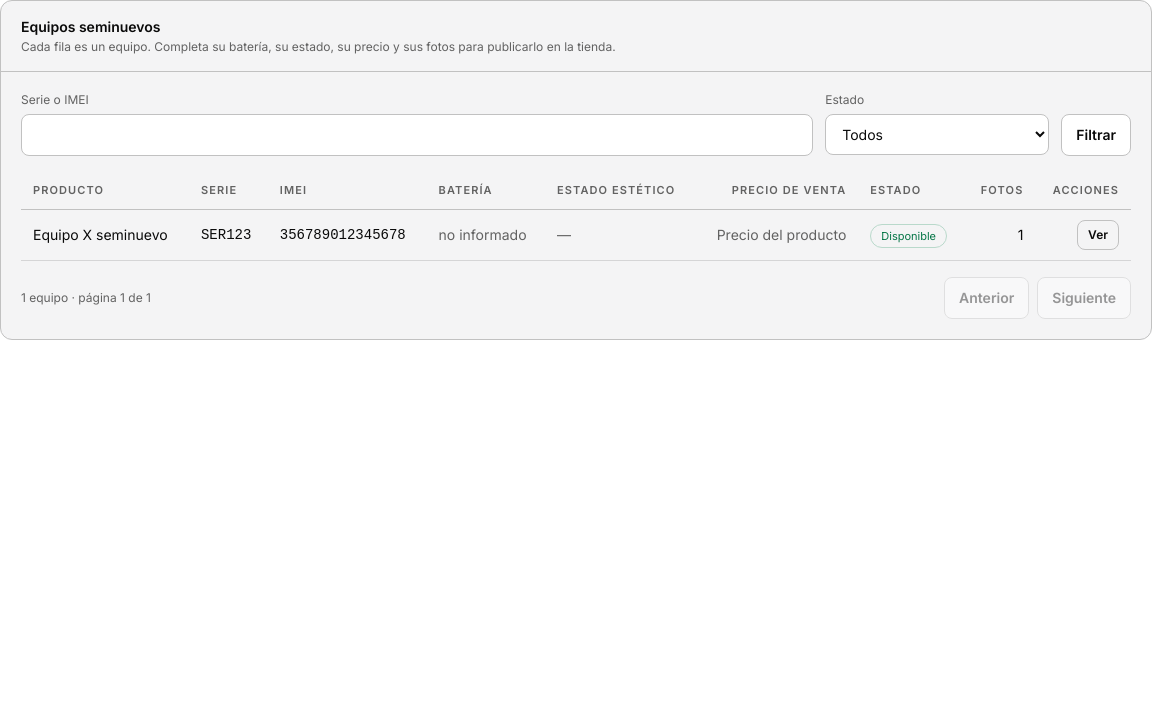
it: Inventario › Seminuevos › sin `inventory.adjust` la ficha se ve pero no se cambia
Click the button with aria-label "Ver SER123".
click(1098, 234)  # box x1=1077 y1=220 x2=1119 y2=250
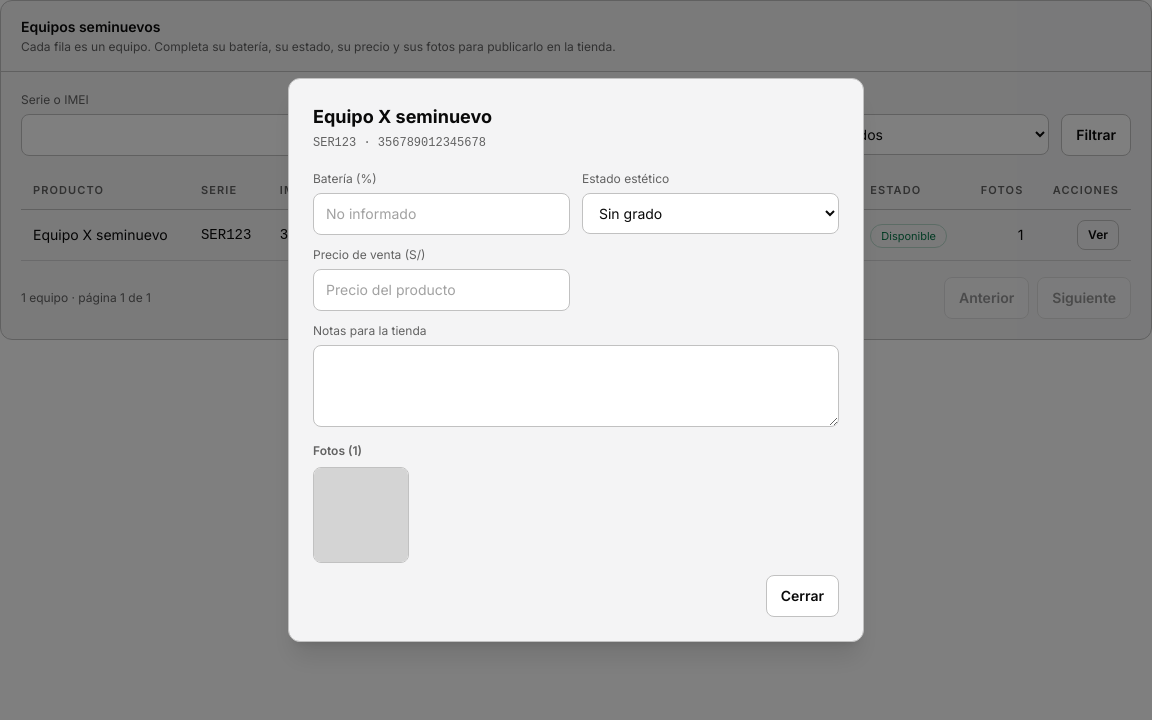
Expected: the field labelled "Batería (%)" is disabled, x1=313 y1=193 x2=570 y2=235
